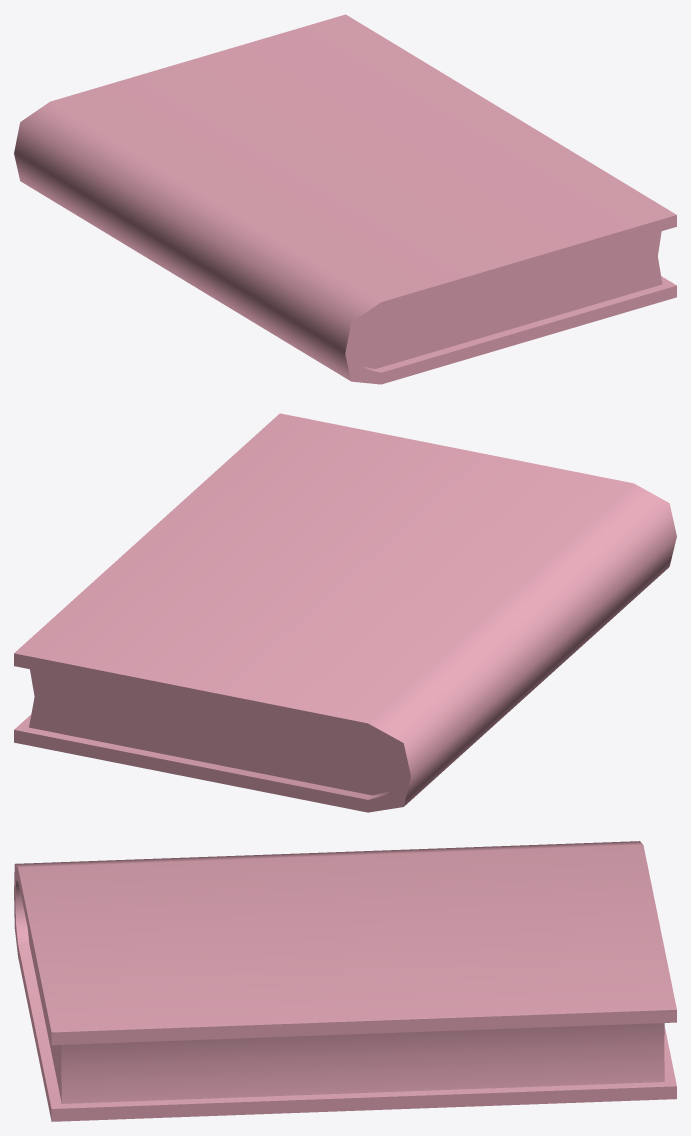
The model's file is Book.fbx.
The picture shows the model from 3 angles, top to bottom: view 1: azimuth 30°, elevation 25°; view 2: azimuth 150°, elevation 25°; view 3: azimuth 270°, elevation 25°; orthographic projection. The views are drawn at different scales.
Parts seen in each view (by area): view 1: Book; view 2: Book; view 3: Book.
Boxes of the visible parts, x1,y1,x2,y2 form: Book: [14, 14, 676, 384]; Book: [14, 413, 676, 812]; Book: [14, 841, 676, 1121].
Bounding box in the file's own units: 31.97 × 6.42 × 43.17.
